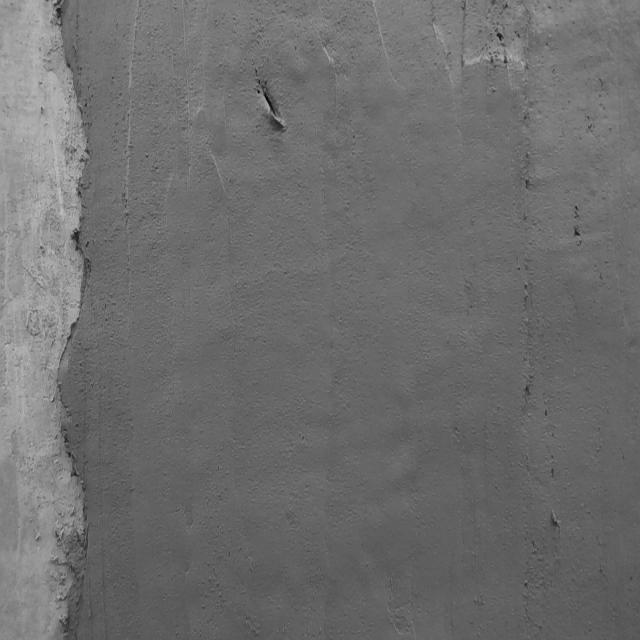trowels marks: (518, 6, 536, 630)
